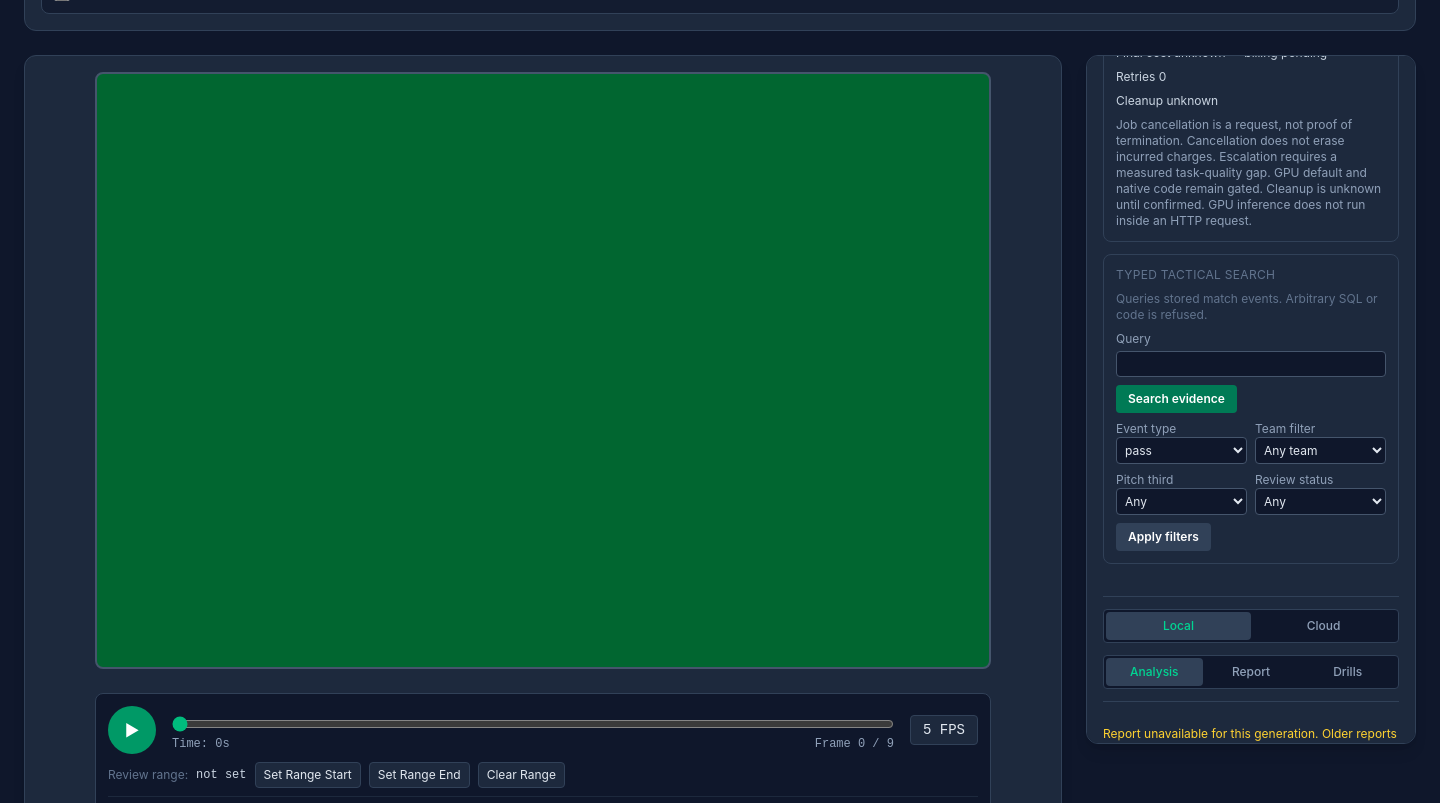
Scenario: App match workspace loading › seeks a search hit by source frame and restores its range after a paged frame load
(page scrolled)
Click the button "Search evidence" at (1176, 399), box [1116, 385, 1237, 413]
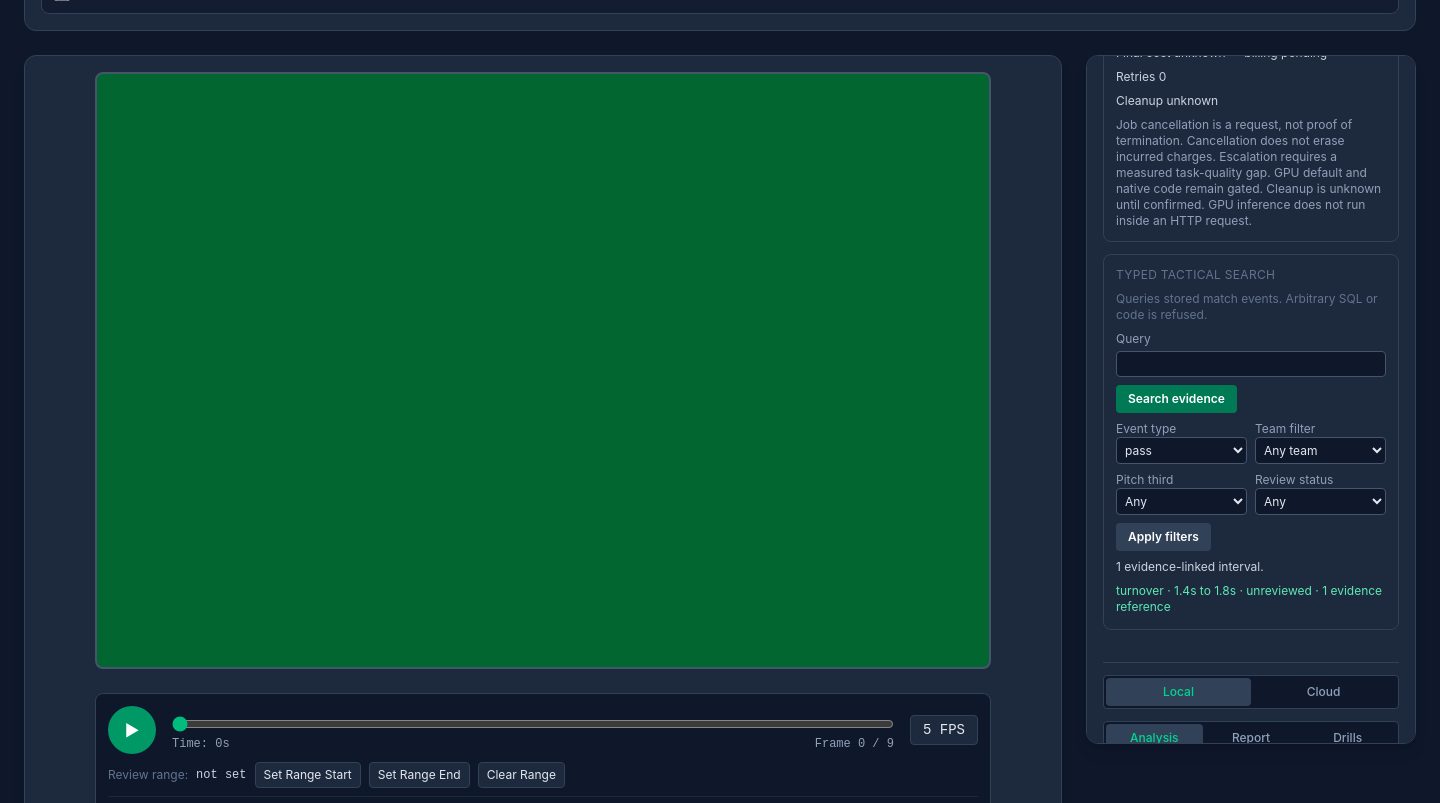
Click the button "turnover · 1.4s to 1.8s · unreviewed · 1 evidence reference" at (1251, 599), box [1116, 583, 1386, 615]
(page scrolled)
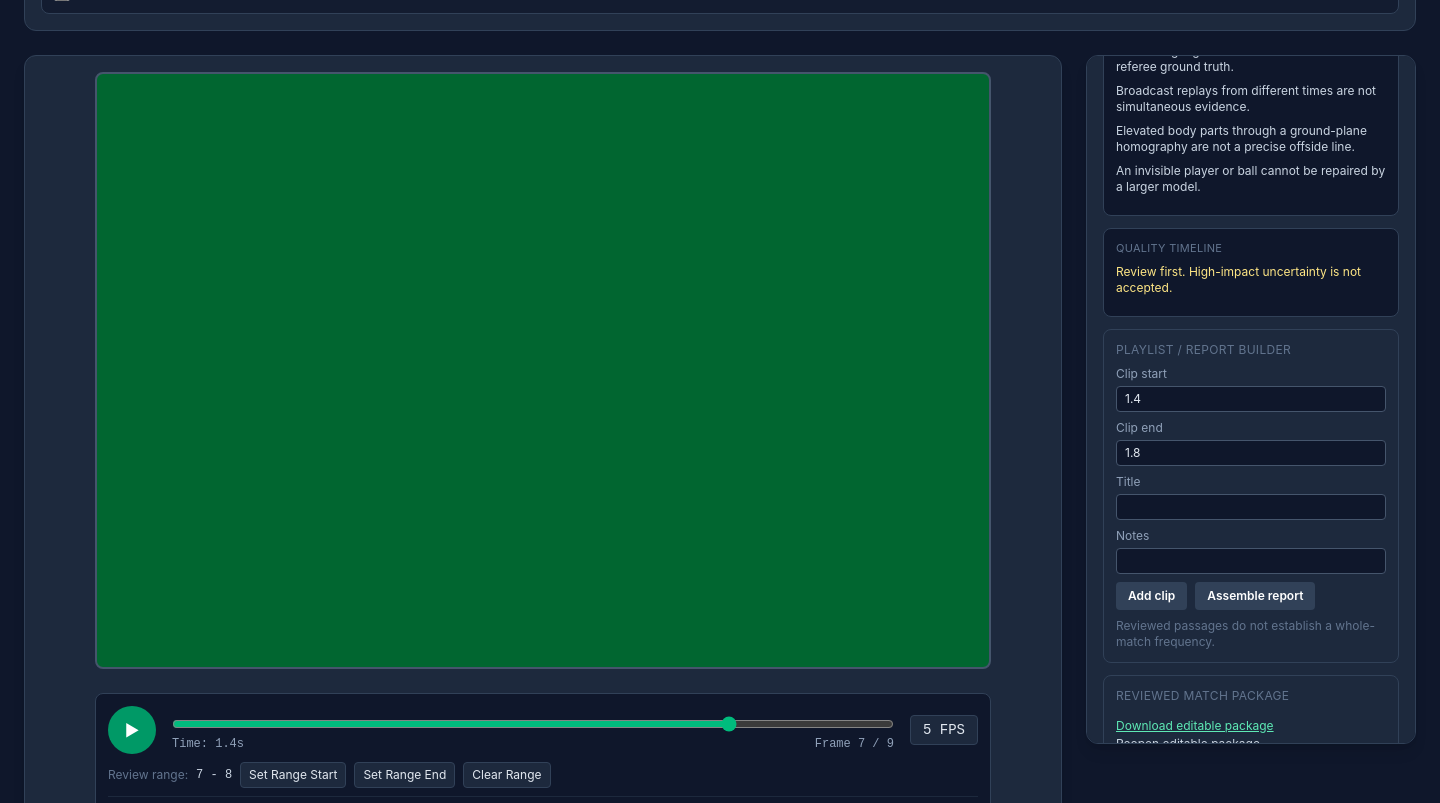
Check: the text "7 - 8" is shown, box [196, 767, 232, 783]
Check: the field labelled "Clip start" holds "1.4", box [1116, 386, 1386, 412]
